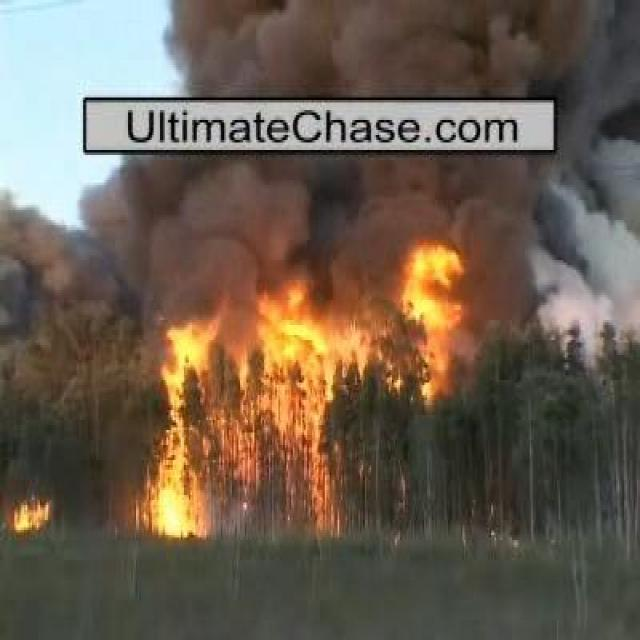fire: (148, 464, 198, 539)
smoke: (109, 153, 598, 272), (177, 6, 578, 94)
